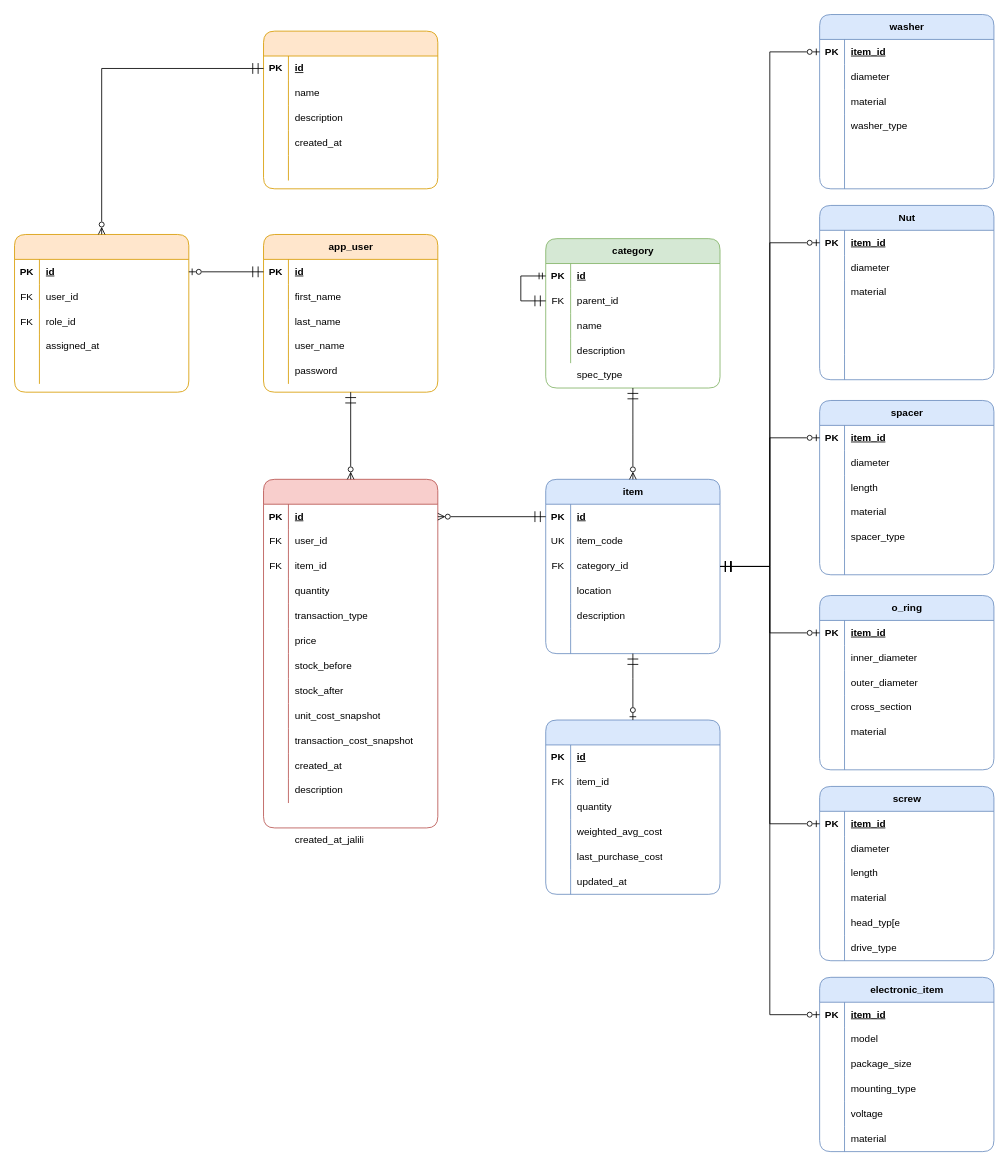
The diagram is 1008 pixels wide and 1166 high, and some of its shapes have lost their labels. Here are the shapes that lost their labels. From the top down, the box of each, then its label:
(263, 30, 438, 189): role
(14, 234, 189, 392): user_role_assignemt
(263, 478, 438, 828): inventory_ transaction
(545, 719, 720, 894): inventory
